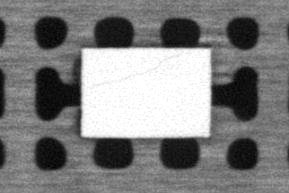DIE_CRACK: (89, 53, 180, 88)
